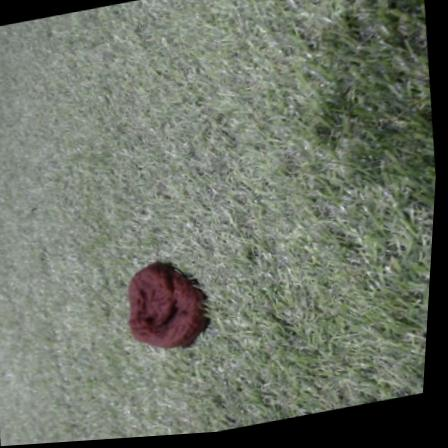dog-poop: (111, 253, 219, 367)
